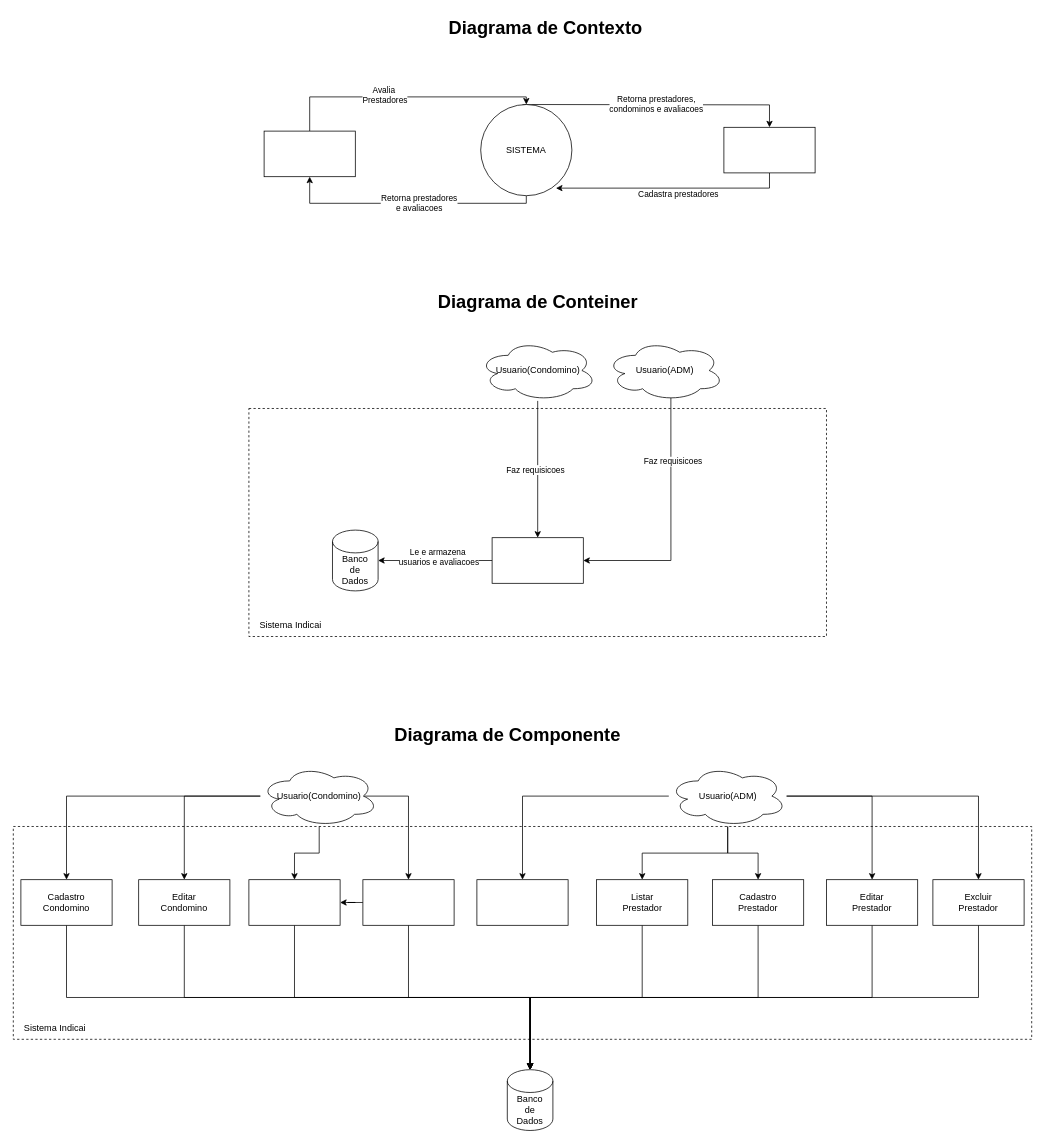
This 1045x1144 diagram has some shape labels left out. The shapes that lost their labels are listed below. From the top down, each one's box as (x1, y1, x2, y2) in pixels, then its label:
(263, 130, 355, 177): usuario (Condomino)
(723, 127, 815, 173): usuario (ADM)
(491, 537, 583, 583): API
(248, 879, 340, 925): Criar Avaliacao para Prestador
(362, 879, 454, 925): Excluir Condomino
(476, 879, 568, 925): Listar Condomino
